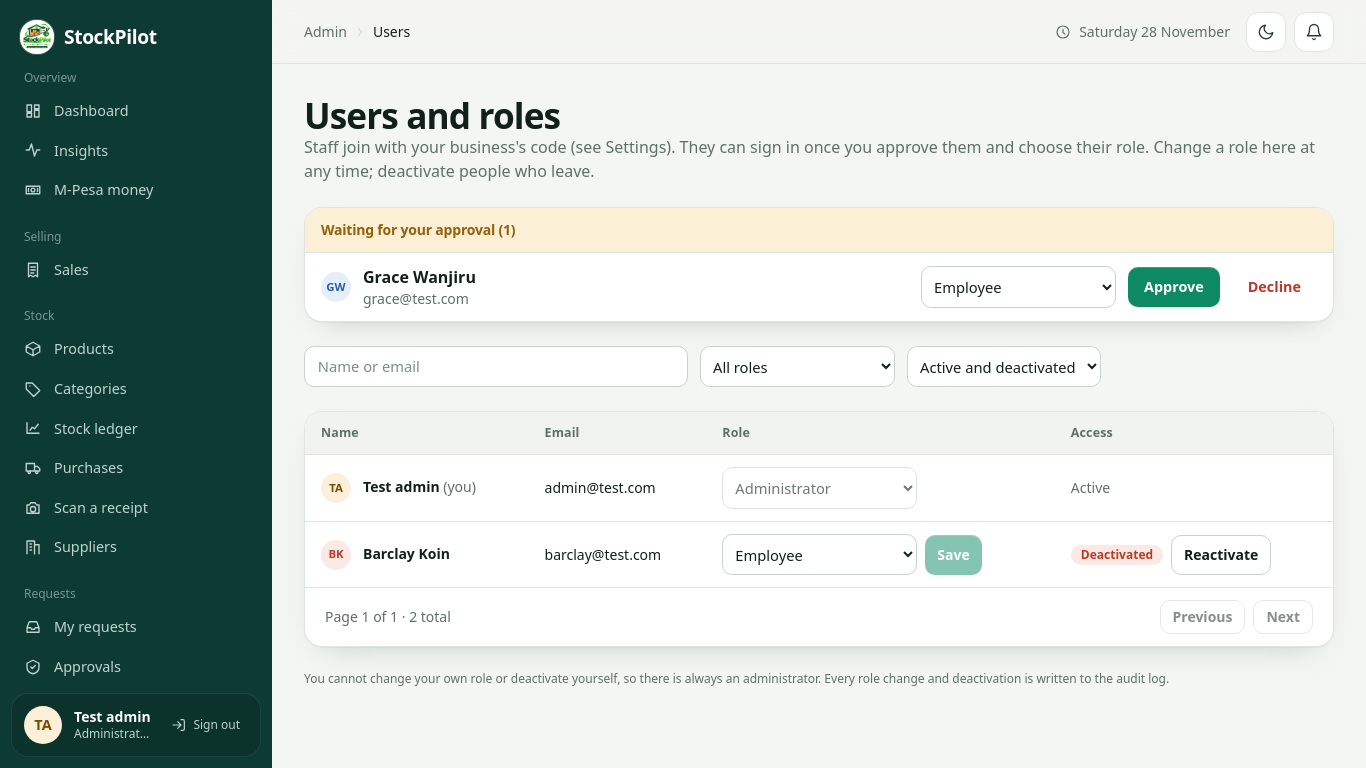
Test: users › let the administrator approve a new joiner with a role
The image size is (1366, 768).
Check: the heading "Waiting for your approval (1)" is shown, box left=305, top=208, right=1333, bottom=253
Select "Inventory Manager" in the 1st dropdown named "Role to give Grace Wanjiru" at (1018, 287), box left=921, top=266, right=1116, bottom=308
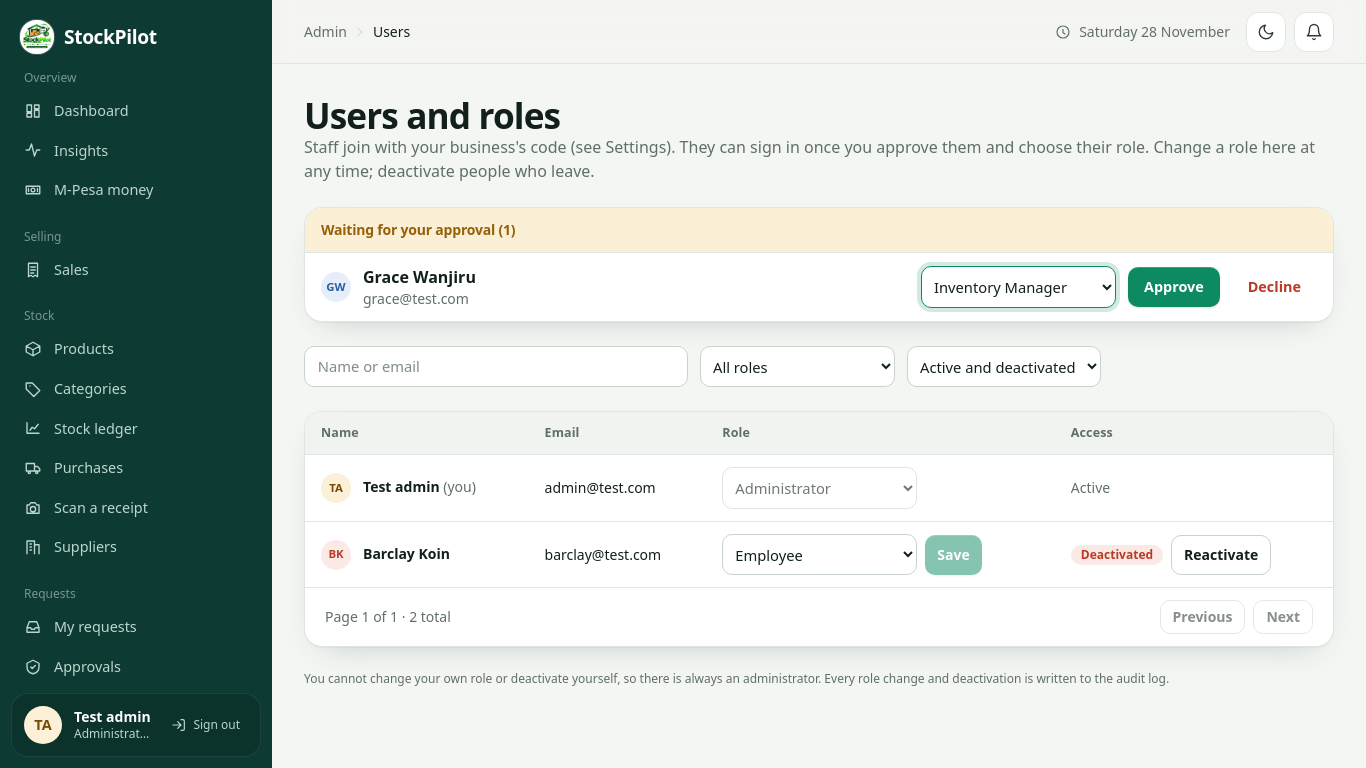
Click the button with aria-label "Approve Grace Wanjiru".
click(1174, 287)  # box left=1128, top=267, right=1220, bottom=307
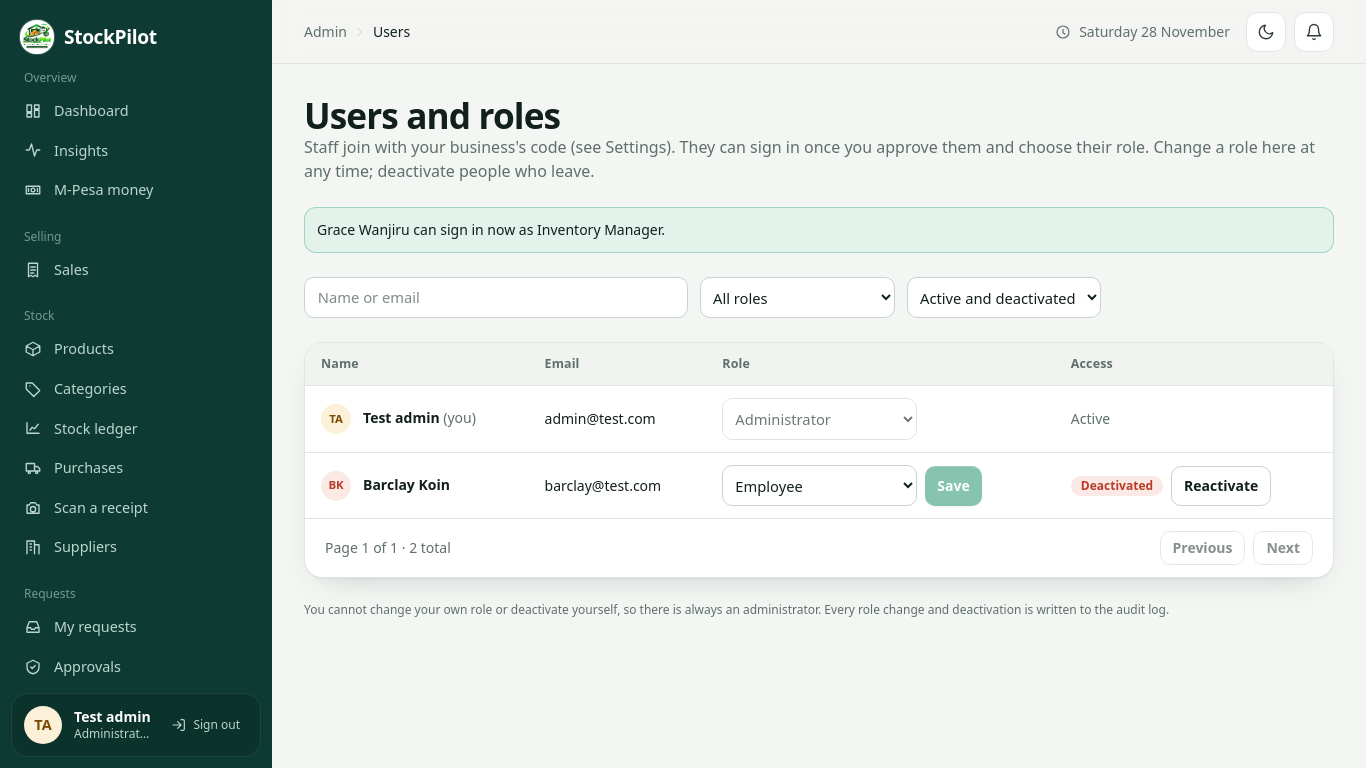
Check: the text "Grace Wanjiru can sign in now as Inventory Manager." is shown, box left=304, top=207, right=1334, bottom=253
Check: the heading "Waiting for your approval" is gone
